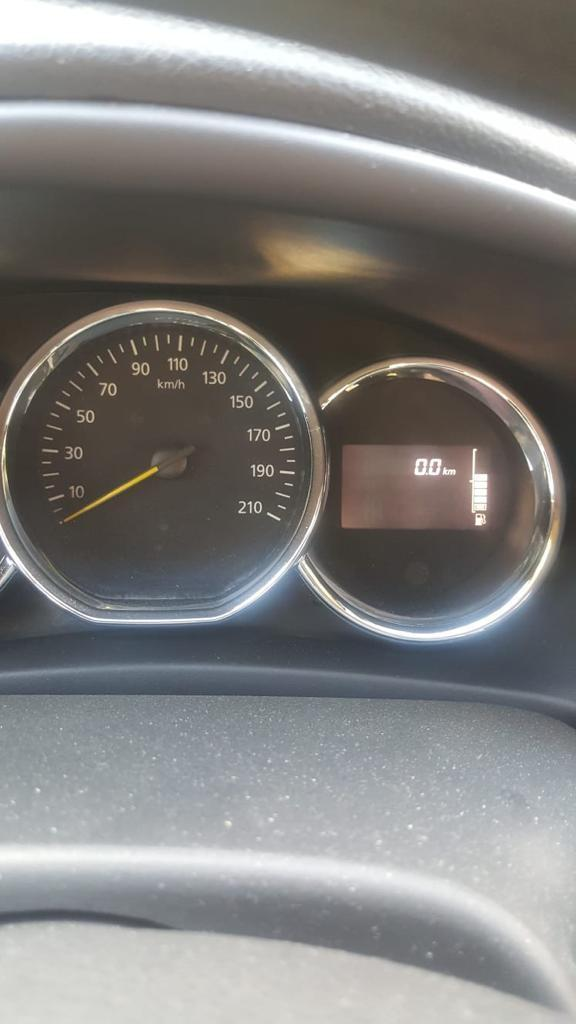,: (424, 472, 429, 476)
0: (428, 457, 441, 476), (413, 457, 426, 476)
X: (447, 468, 455, 475), (441, 466, 447, 475)
odometer: (333, 438, 502, 535)
